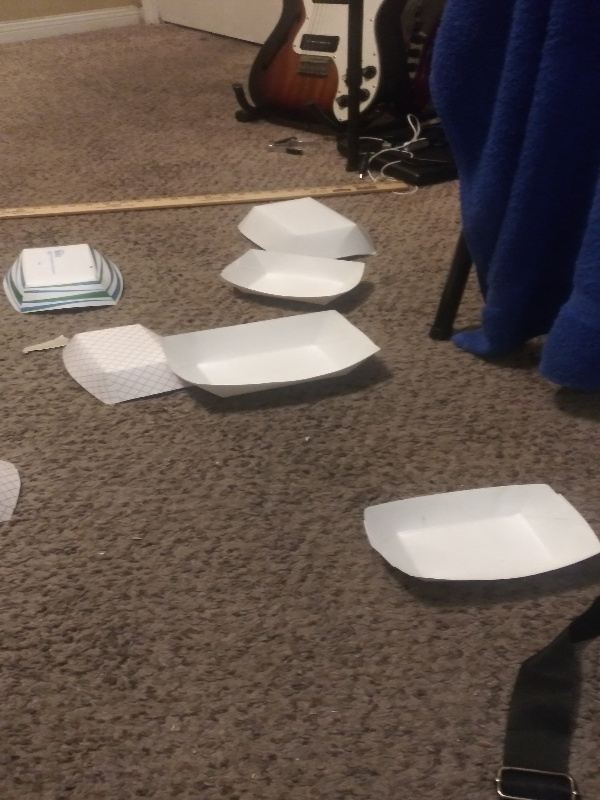plate: (361, 478, 600, 592), (161, 305, 389, 412), (59, 321, 190, 411), (214, 247, 370, 310), (1, 242, 128, 314), (233, 196, 378, 259), (1, 454, 24, 535)
